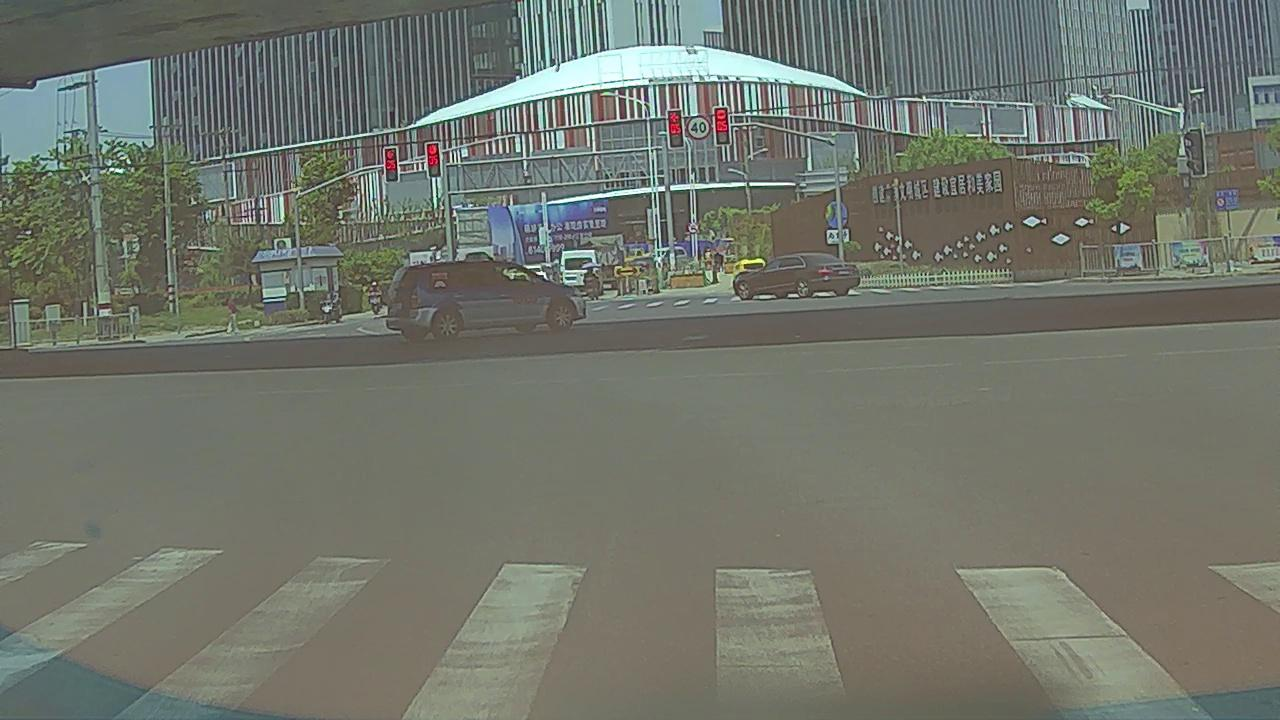traffic_light: (714, 107, 730, 144), (426, 144, 442, 177), (668, 111, 683, 146), (385, 149, 397, 181)
